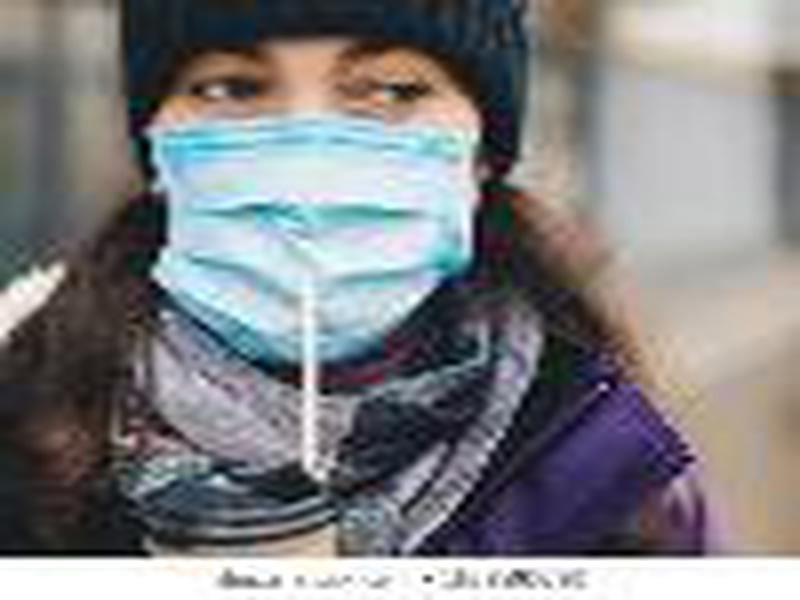with_mask: (145, 39, 491, 365)
